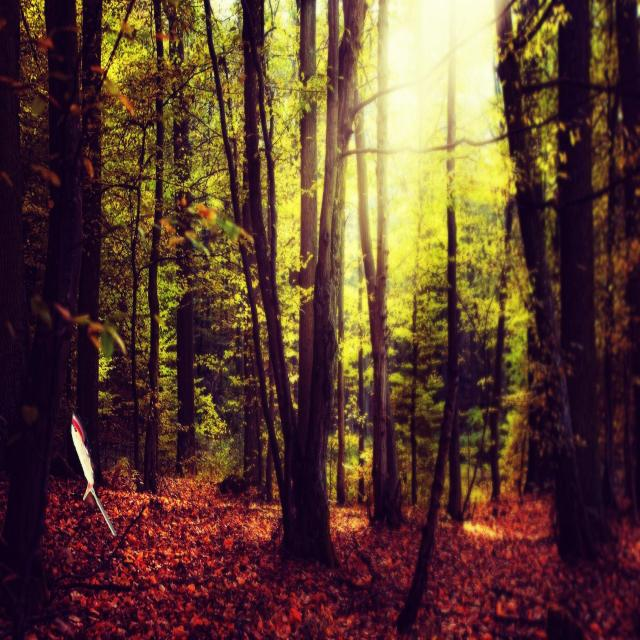airplane: (70, 412, 116, 538)
